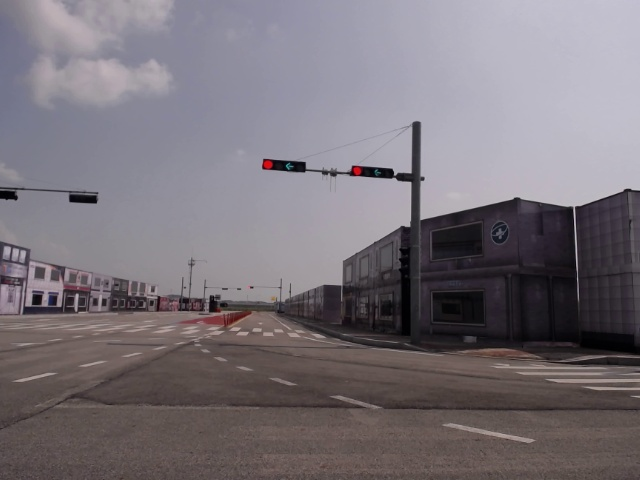left_green_4: (263, 160, 306, 172), (354, 166, 392, 178)
